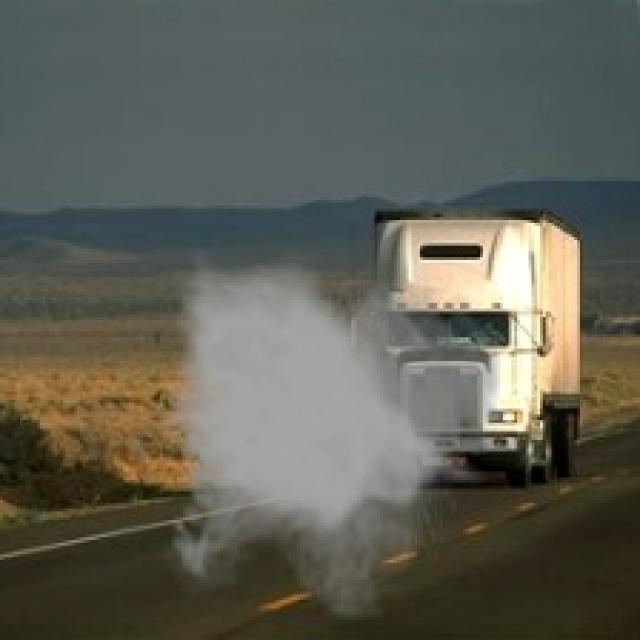smoke: (160, 249, 506, 620)
